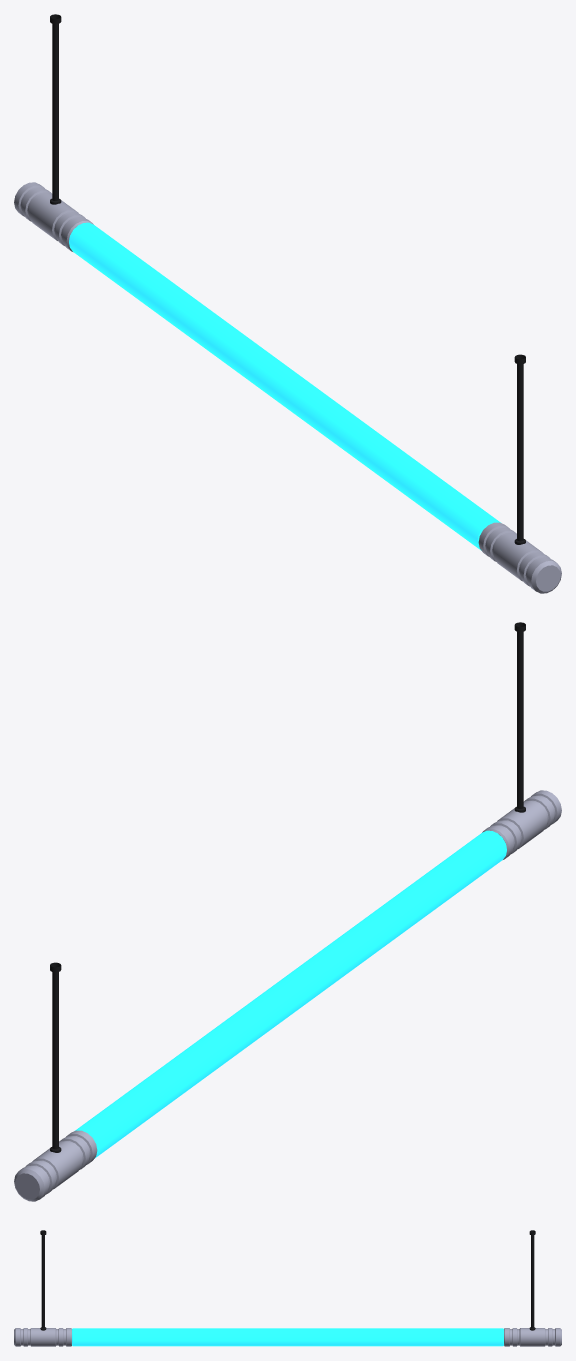
Rendered from Light_Tube_01_Single.glb.
The picture shows the model from 3 angles, top to bottom: view 1: azimuth 30°, elevation 25°; view 2: azimuth 150°, elevation 25°; view 3: azimuth 270°, elevation 25°; orthographic projection. The views are drawn at different scales.
Parts seen in each view (by area): view 1: Light_Tube_01_Single.001; view 2: Light_Tube_01_Single.001; view 3: Light_Tube_01_Single.001.
Boxes of the visible parts, x1,y1,x2,y2 form: Light_Tube_01_Single.001: (14,14,561,593); Light_Tube_01_Single.001: (14,622,561,1201); Light_Tube_01_Single.001: (14,1230,561,1346).
Bounding box in the file's own units: 0.0729 × 0.492 × 2.14.
